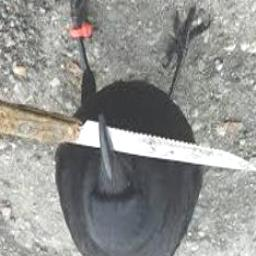Crow: (49, 0, 213, 256)
